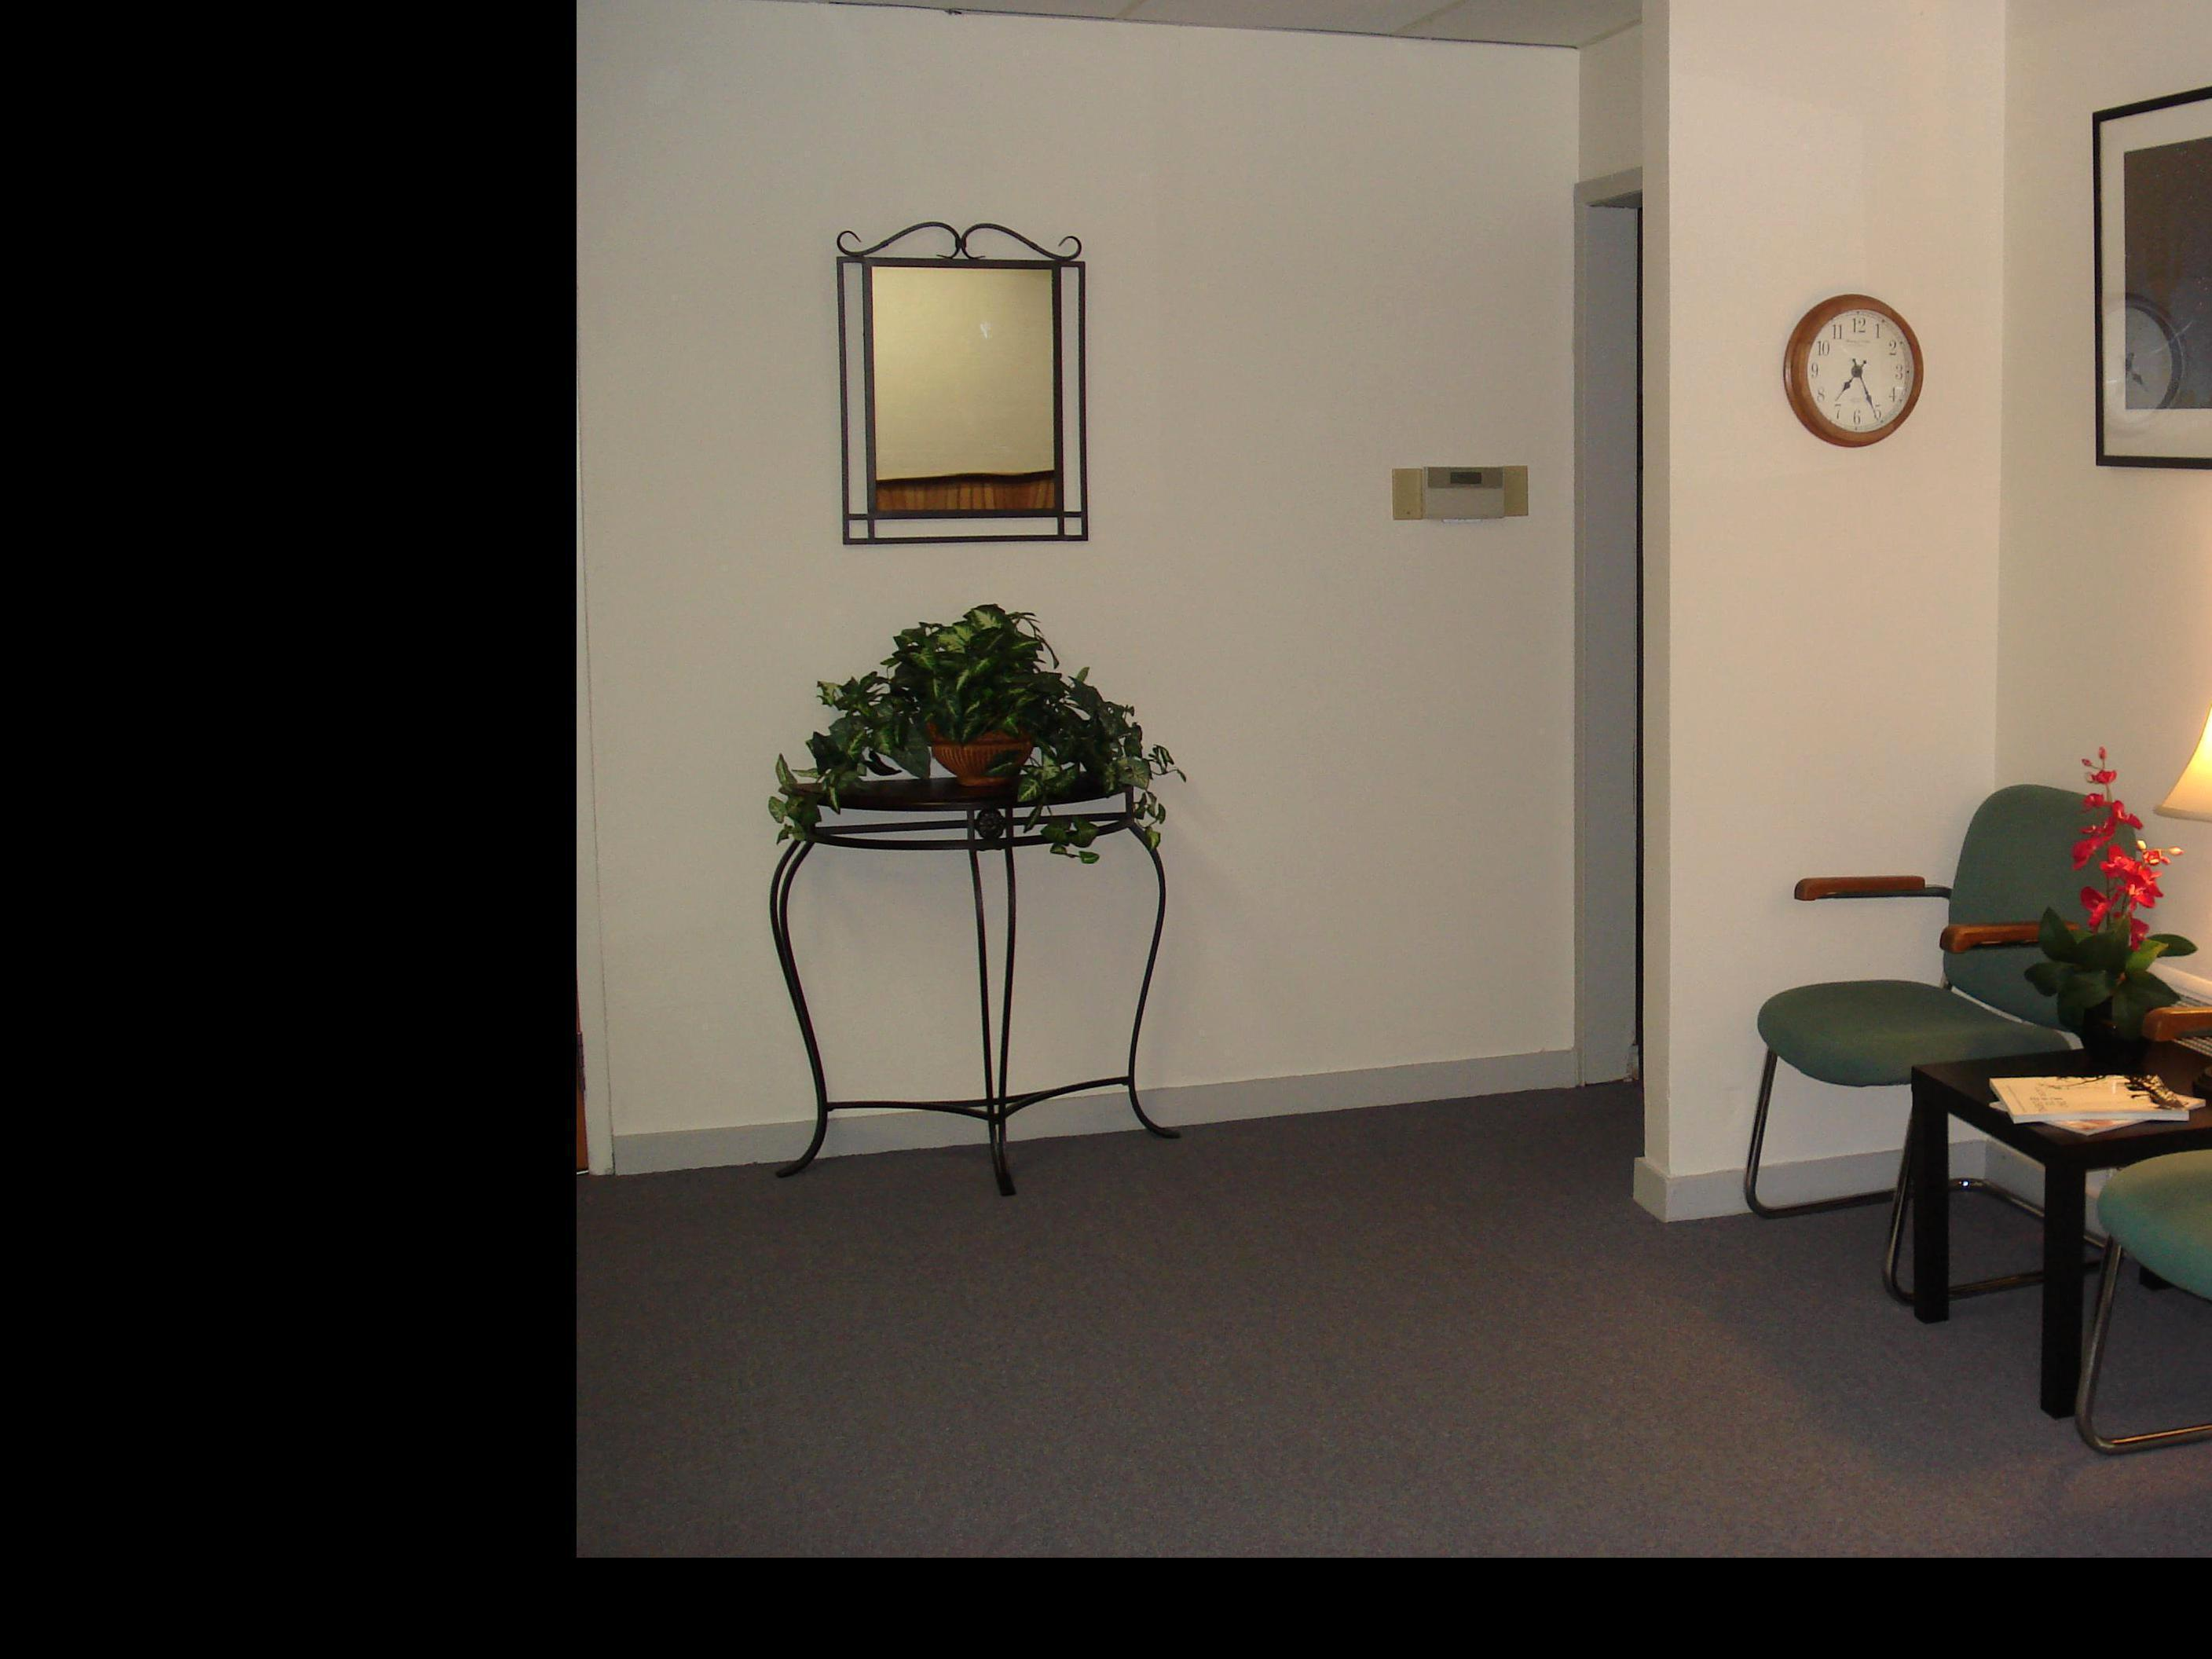Matera: (826, 582, 1139, 821)
